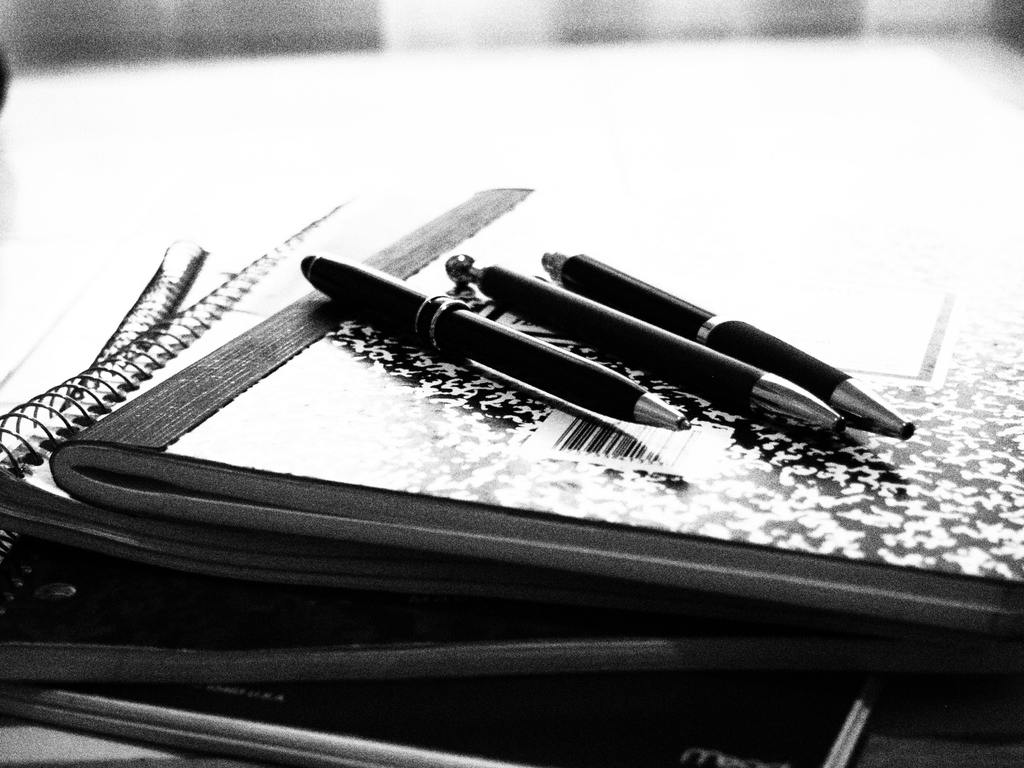Pen: (449, 248, 852, 435), (549, 241, 910, 441), (296, 257, 693, 428)
